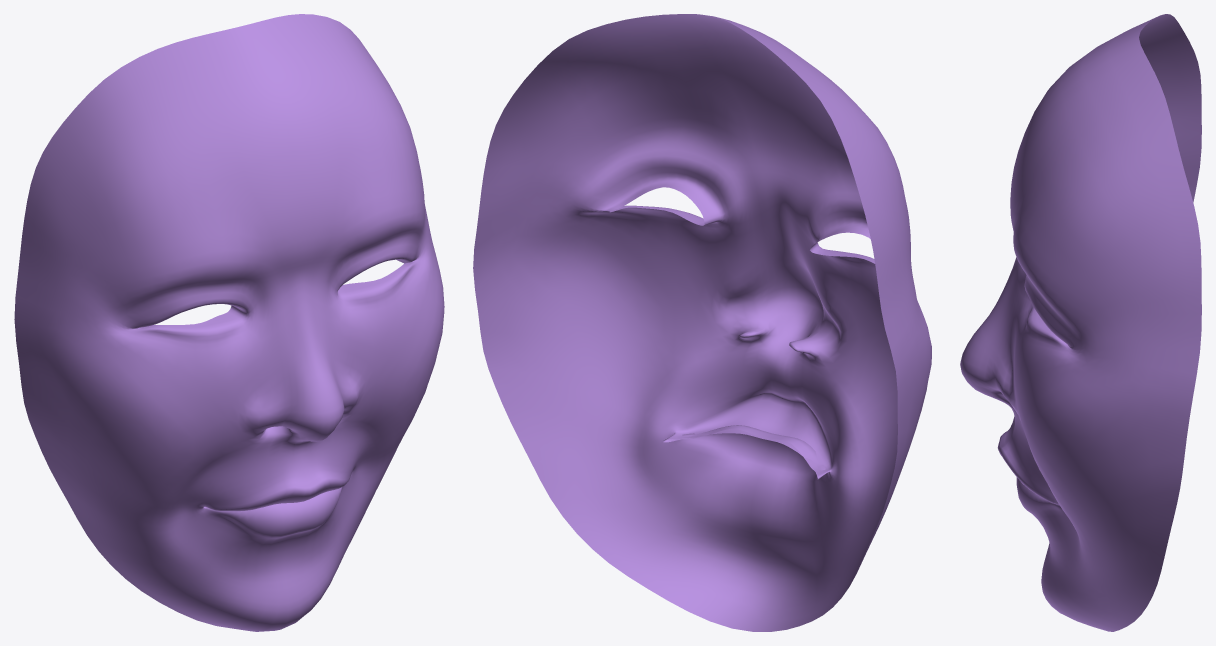
Rendered from mask--model.glb.
The picture shows the model from 3 angles, left to right: view 1: azimuth 30°, elevation 25°; view 2: azimuth 150°, elevation 25°; view 3: azimuth 270°, elevation 25°; orthographic projection. The views are drawn at different scales.
Visible parts, largest first — view 1: Object_2; view 2: Object_2; view 3: Object_2.
Part boxes in pixels (x1,y1,x2,y2): Object_2: (14,14,444,631); Object_2: (473,14,931,631); Object_2: (960,14,1201,631).
Bounding box in the file's own units: 0.2473 × 0.3497 × 0.1314.
